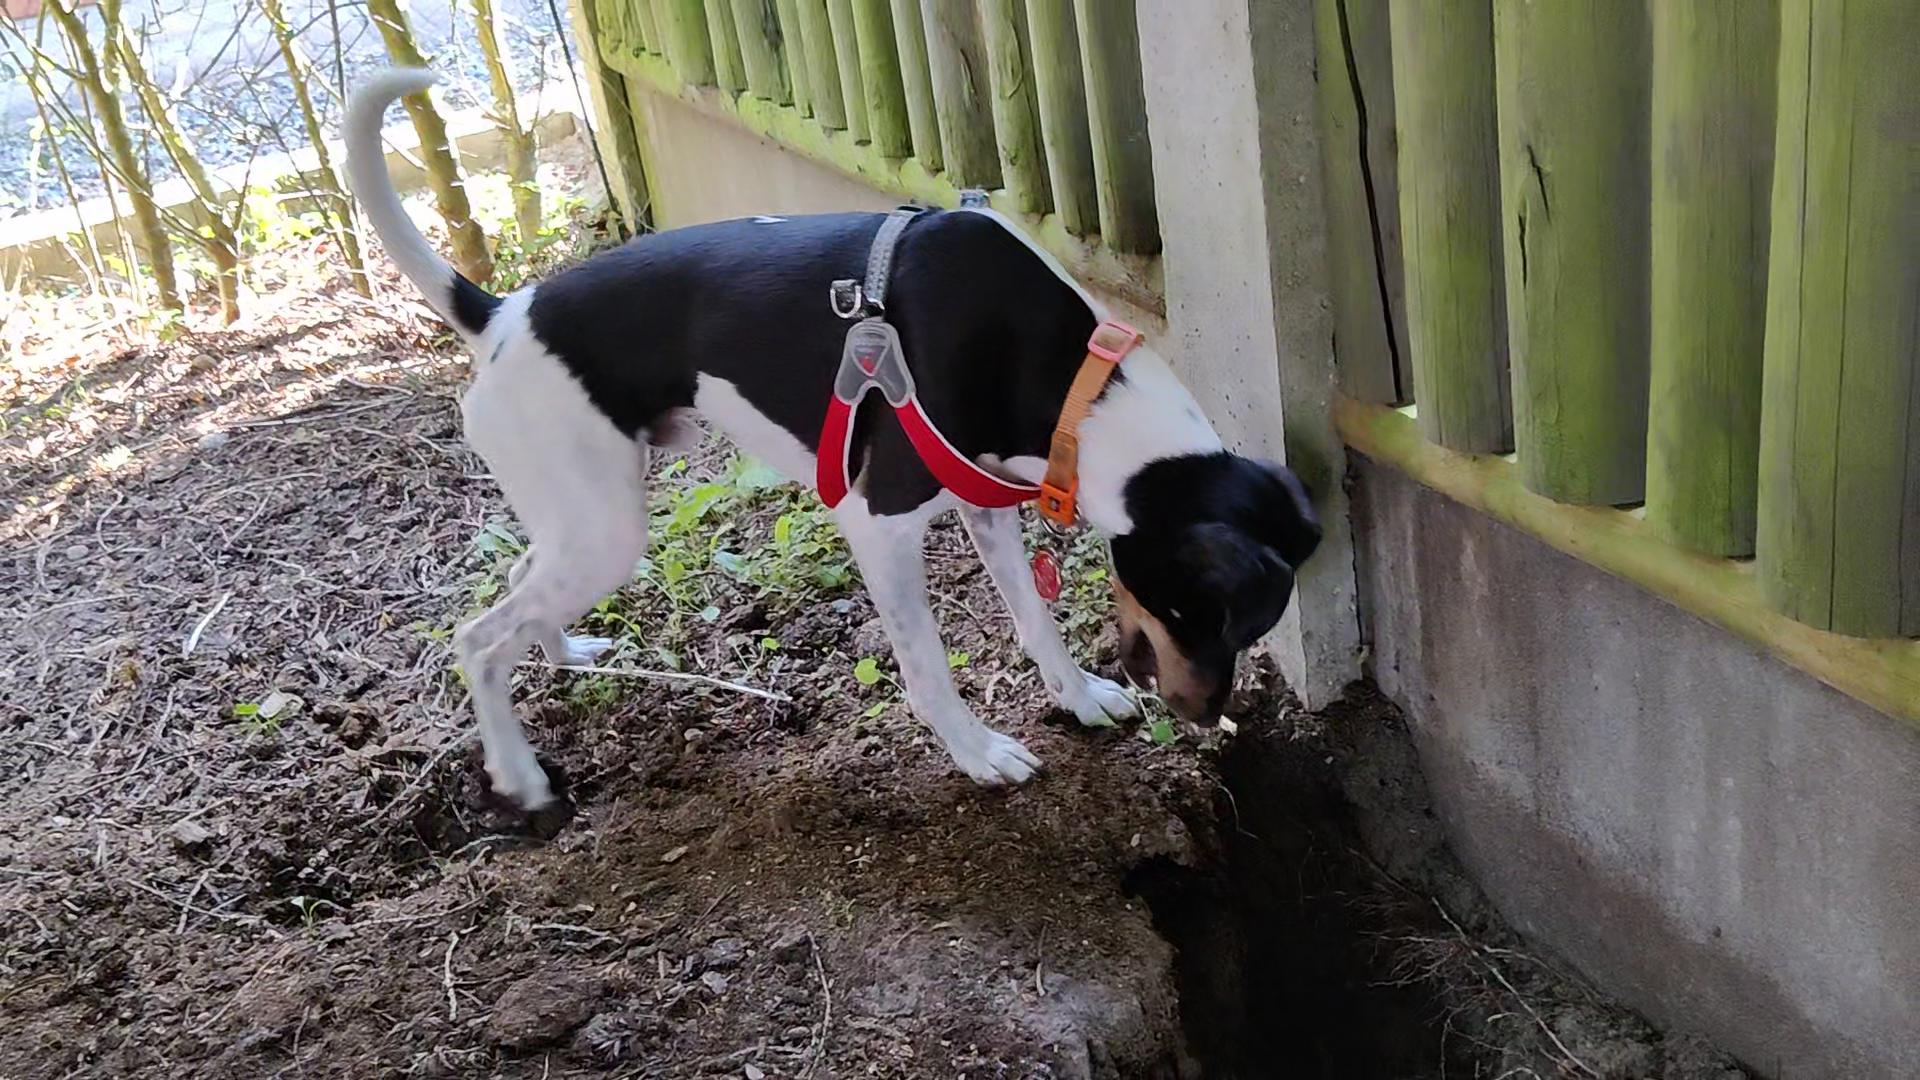Dog: (323, 47, 1356, 822)
